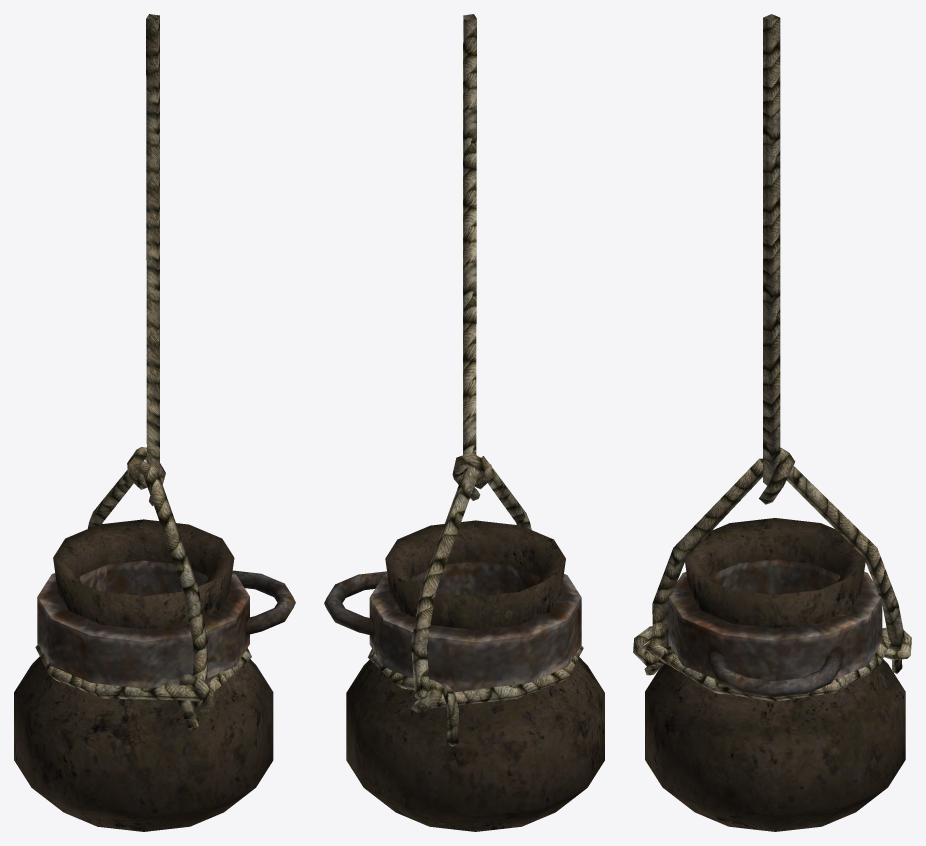
Rendered from glass_container_string.dae.
The picture shows the model from 3 angles, left to right: view 1: azimuth 30°, elevation 25°; view 2: azimuth 150°, elevation 25°; view 3: azimuth 270°, elevation 25°; orthographic projection.
Visible parts, largest first — view 1: polySurface20, polySurface19, headusOBJexport; view 2: polySurface20, polySurface19, headusOBJexport; view 3: polySurface20, headusOBJexport, polySurface19.
Part boxes in pixels (x1,y1,x2,y2): polySurface20: (14, 519, 273, 831); polySurface19: (37, 560, 295, 688); headusOBJexport: (35, 14, 251, 731); polySurface20: (346, 520, 604, 831); polySurface19: (324, 561, 581, 689); headusOBJexport: (367, 14, 583, 746); polySurface20: (645, 518, 905, 831); headusOBJexport: (633, 14, 911, 701); polySurface19: (668, 559, 882, 697).
Size of the model in its own units: 0.5174 by 1.5 by 0.4868.
